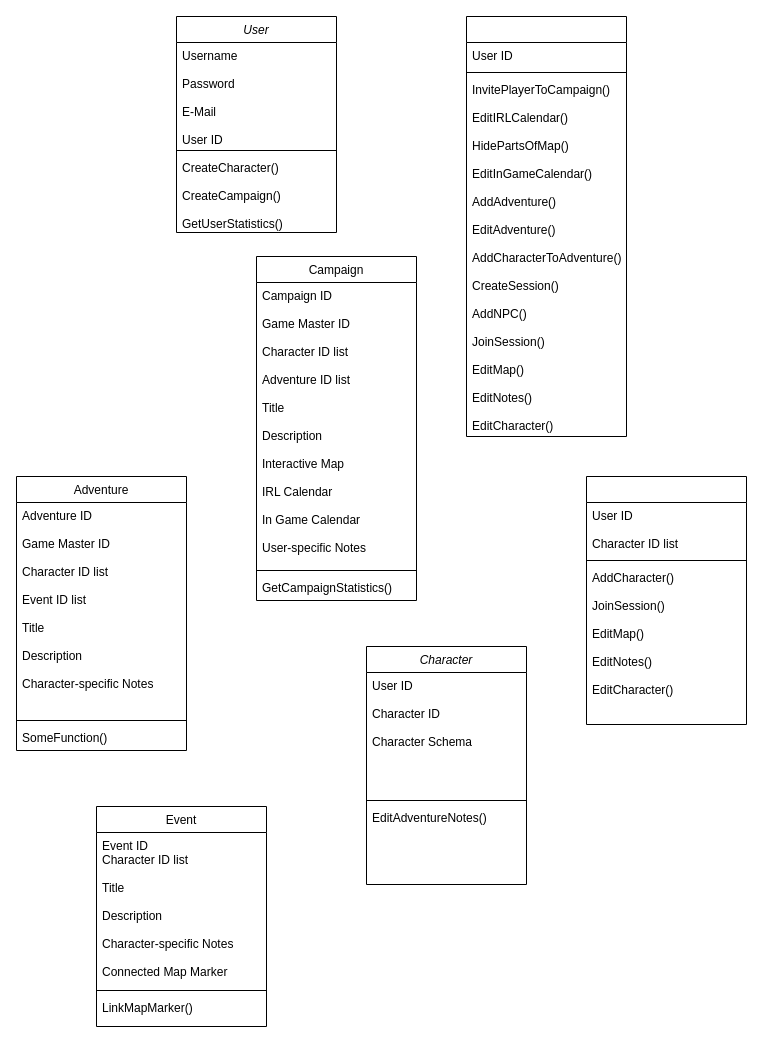
Some shapes in this 763 by 1043 pixel diagram are drawn without their labels. The box of each missing label's shape, as (x1, y1, x2, y2) in pixels:
Game Master: (466, 16, 626, 436)
Player: (586, 476, 746, 724)
